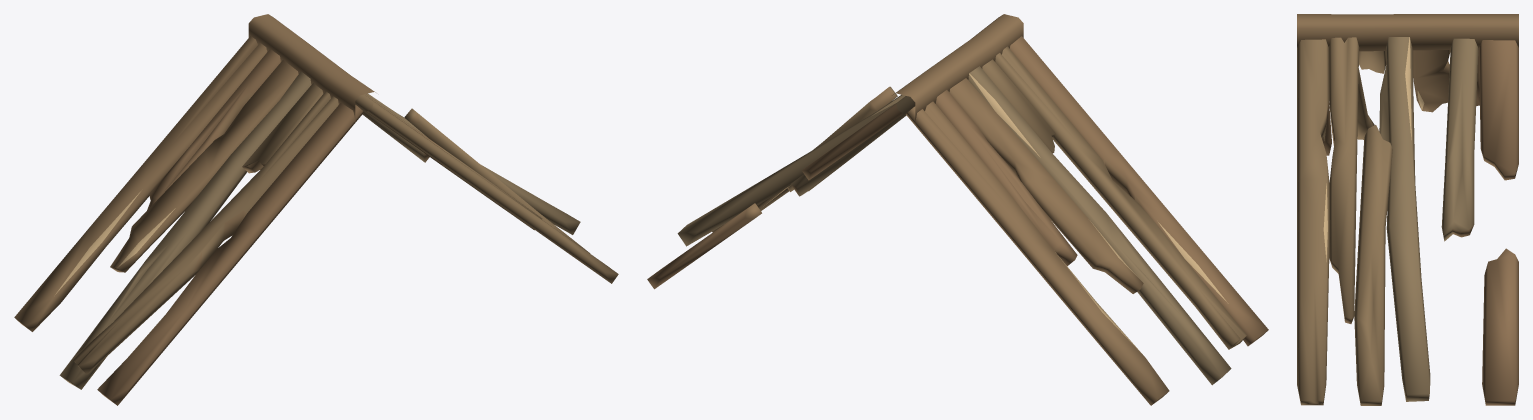
File: rpgpp_av_roof_02_6x3x3_a.gltf
The picture shows the model from 3 angles, left to right: view 1: azimuth 30°, elevation 25°; view 2: azimuth 150°, elevation 25°; view 3: azimuth 270°, elevation 25°; orthographic projection. The views are drawn at different scales.
Parts seen in each view (by area): view 1: rpgpp_av_roof_02_6x3x3_a; view 2: rpgpp_av_roof_02_6x3x3_a; view 3: rpgpp_av_roof_02_6x3x3_a.
Part boxes in pixels (x1=…): rpgpp_av_roof_02_6x3x3_a: x1=14, y1=14, x2=618, y2=405; rpgpp_av_roof_02_6x3x3_a: x1=647, y1=14, x2=1268, y2=405; rpgpp_av_roof_02_6x3x3_a: x1=1297, y1=14, x2=1518, y2=405.
Bounding box in the file's own units: 0.0857 × 0.0413 × 0.03.
Materials: 1 (1 with a texture image).
